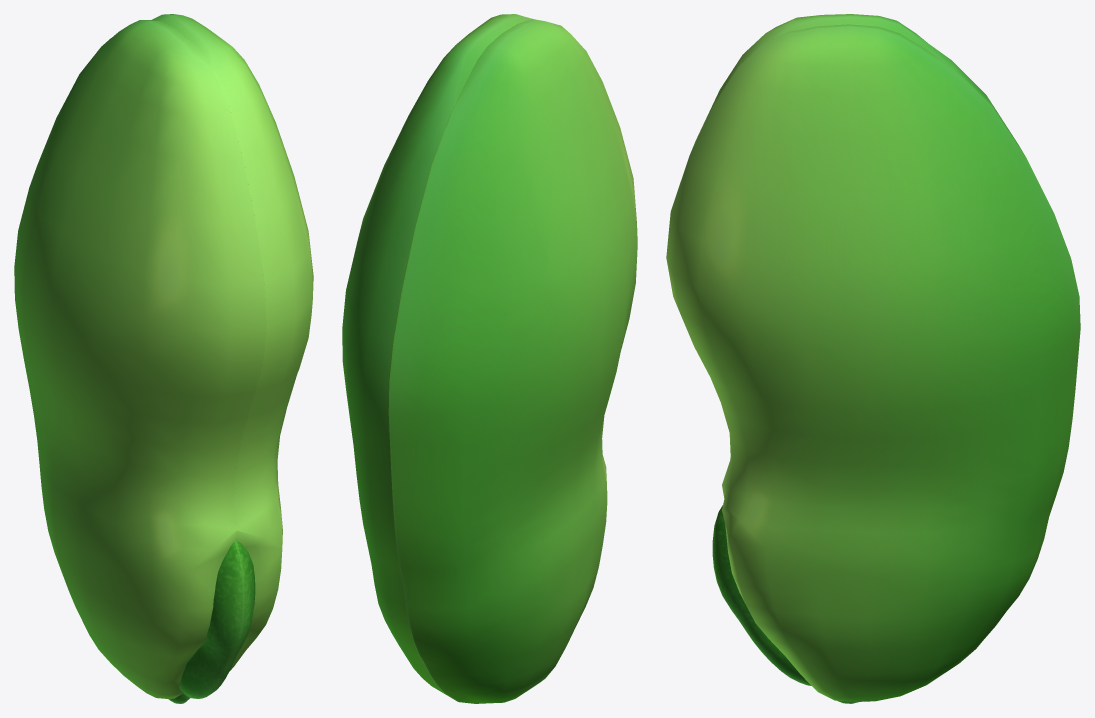
The model's file is sw_zwqg_ld1.FBX.
3 renders of one model, left to right at view 1: azimuth 30°, elevation 25°; view 2: azimuth 150°, elevation 25°; view 3: azimuth 270°, elevation 25°, orthographic. The views are drawn at different scales.
Visible parts, largest first — view 1: sw_zwqg_lddou2, sw_zwqg_lddou1, sw_zwqg_ld; view 2: sw_zwqg_lddou2, sw_zwqg_lddou1; view 3: sw_zwqg_lddou1, sw_zwqg_lddou2, sw_zwqg_ld.
Boxes of the visible parts, box(x1,y1,x2,y2) form: sw_zwqg_lddou2: box(14, 20, 266, 698); sw_zwqg_lddou1: box(152, 14, 313, 671); sw_zwqg_ld: box(168, 540, 255, 703); sw_zwqg_lddou2: box(388, 19, 637, 703); sw_zwqg_lddou1: box(342, 14, 532, 699); sw_zwqg_lddou1: box(666, 24, 1080, 701); sw_zwqg_lddou2: box(690, 14, 1023, 497); sw_zwqg_ld: box(712, 505, 858, 703).
Size of the model in its own units: 1.43 by 4.06 by 2.24.
1 material, 1 textured.
